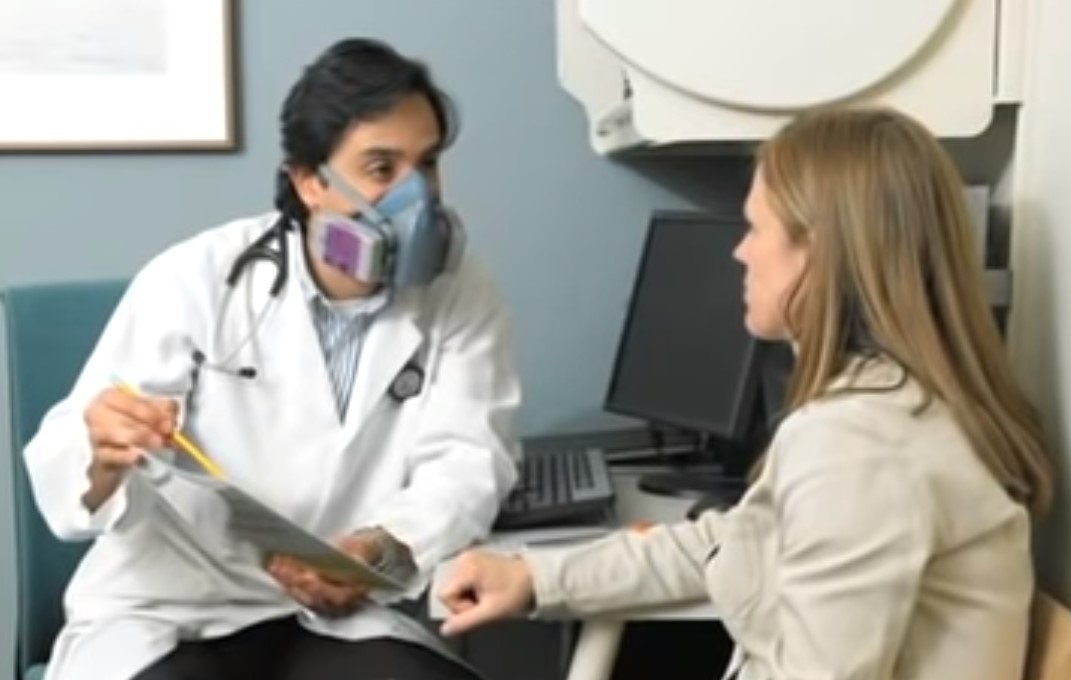face_no_mask: (732, 103, 929, 344)
face_with_mask: (292, 44, 458, 287)
